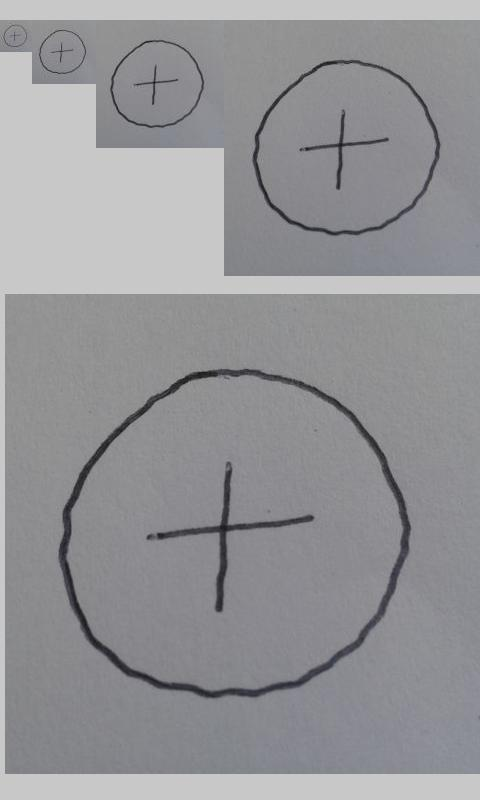button: (59, 368, 412, 700), (252, 59, 441, 236), (110, 39, 205, 128), (38, 29, 87, 75), (3, 24, 28, 48)
